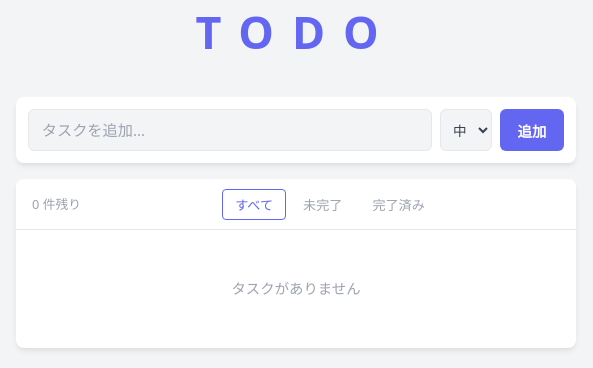
Test: App › タスクを編集できる
The width and height of the screenshot is (593, 368).
Type "元のテキスト" into the field named "新しいタスク" at [230, 130], box left=28, top=109, right=432, bottom=151
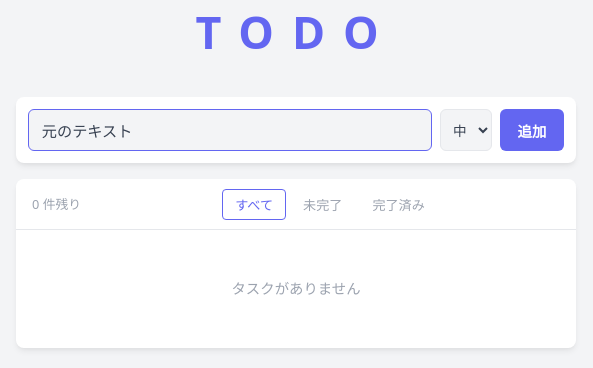
Select "中" in the dropdown named "優先度" at [466, 130], box left=440, top=109, right=492, bottom=151
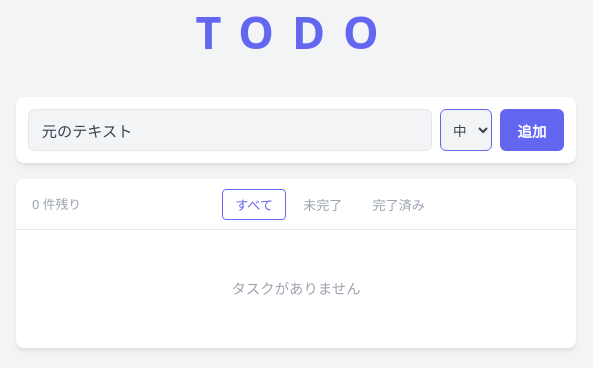
Click the button "追加" at [532, 130], box left=500, top=109, right=564, bottom=151
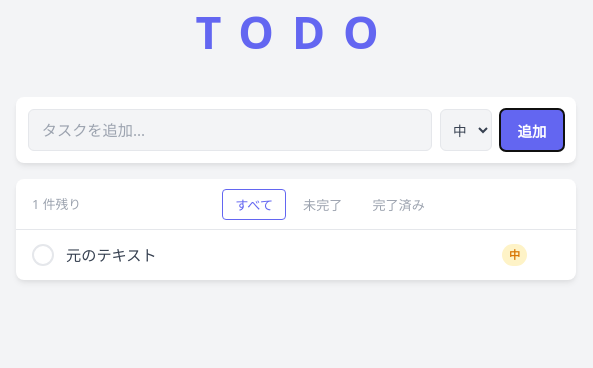
Double-click the text "元のテキスト" at [111, 255], box left=66, top=245, right=157, bottom=265
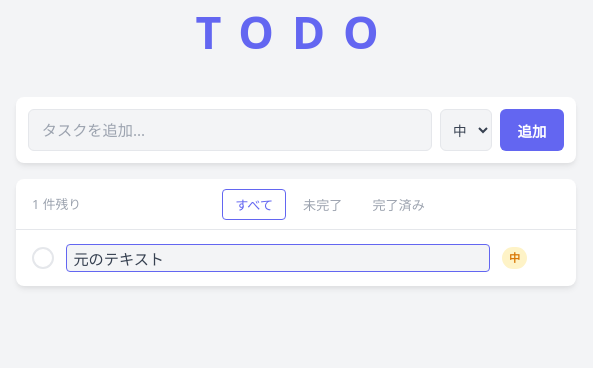
Replace the text in the field named "タスクを編集" with "編集済み" at [278, 258], box left=66, top=244, right=490, bottom=272
Then press Enter
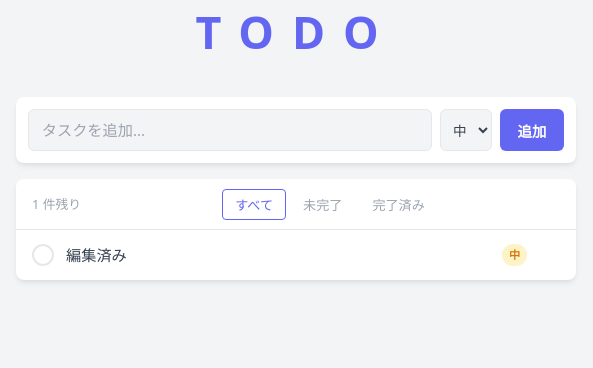
Expected: the text "元のテキスト" is not shown
Now the text "編集済み" is shown, box left=66, top=245, right=127, bottom=265
